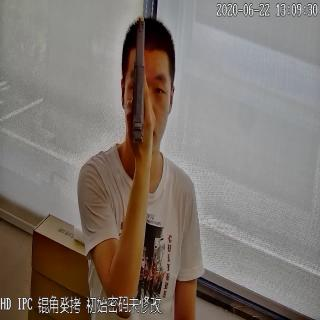gun: (127, 12, 157, 148)
